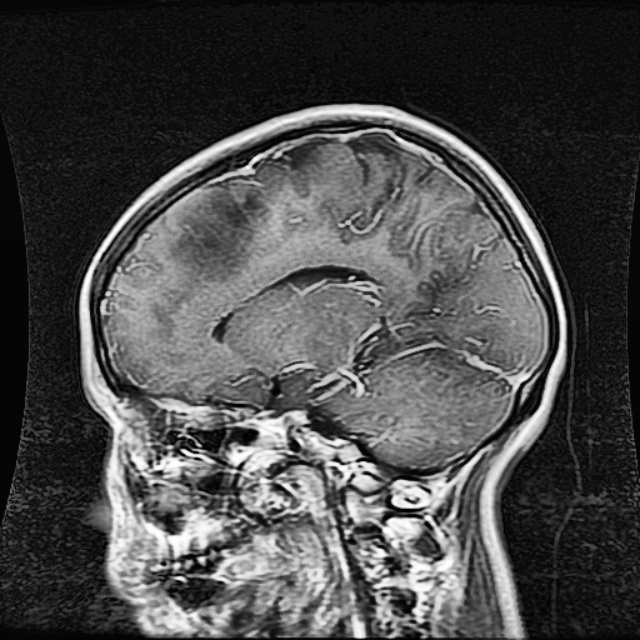Meningioma: (164, 179, 268, 270)
